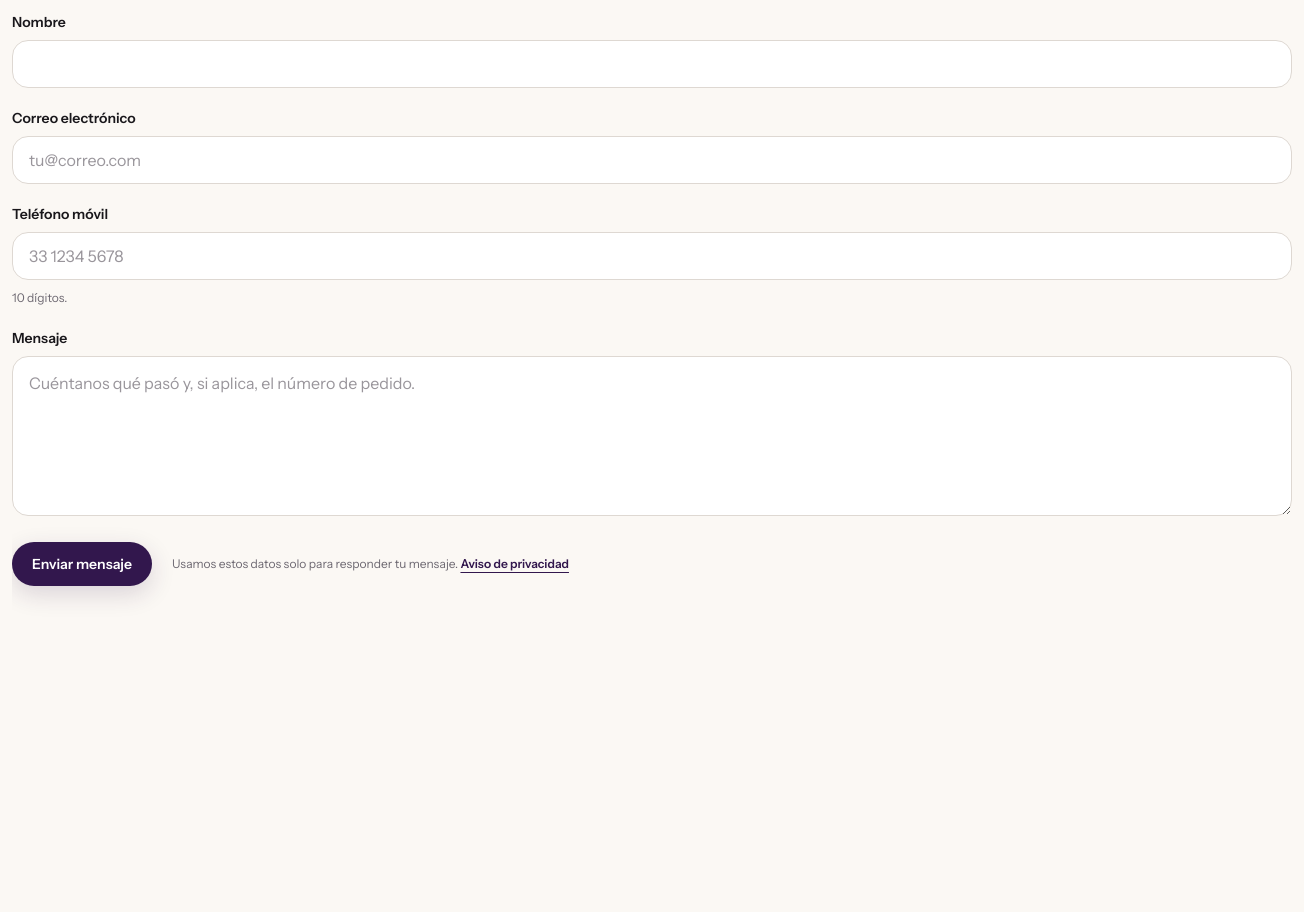
it: ContactForm › marks each field that was refused and keeps what was typed
Step 1. Type "Luis Pérez" into the field labelled "Nombre" → (652, 64), box [12,40,1292,88]
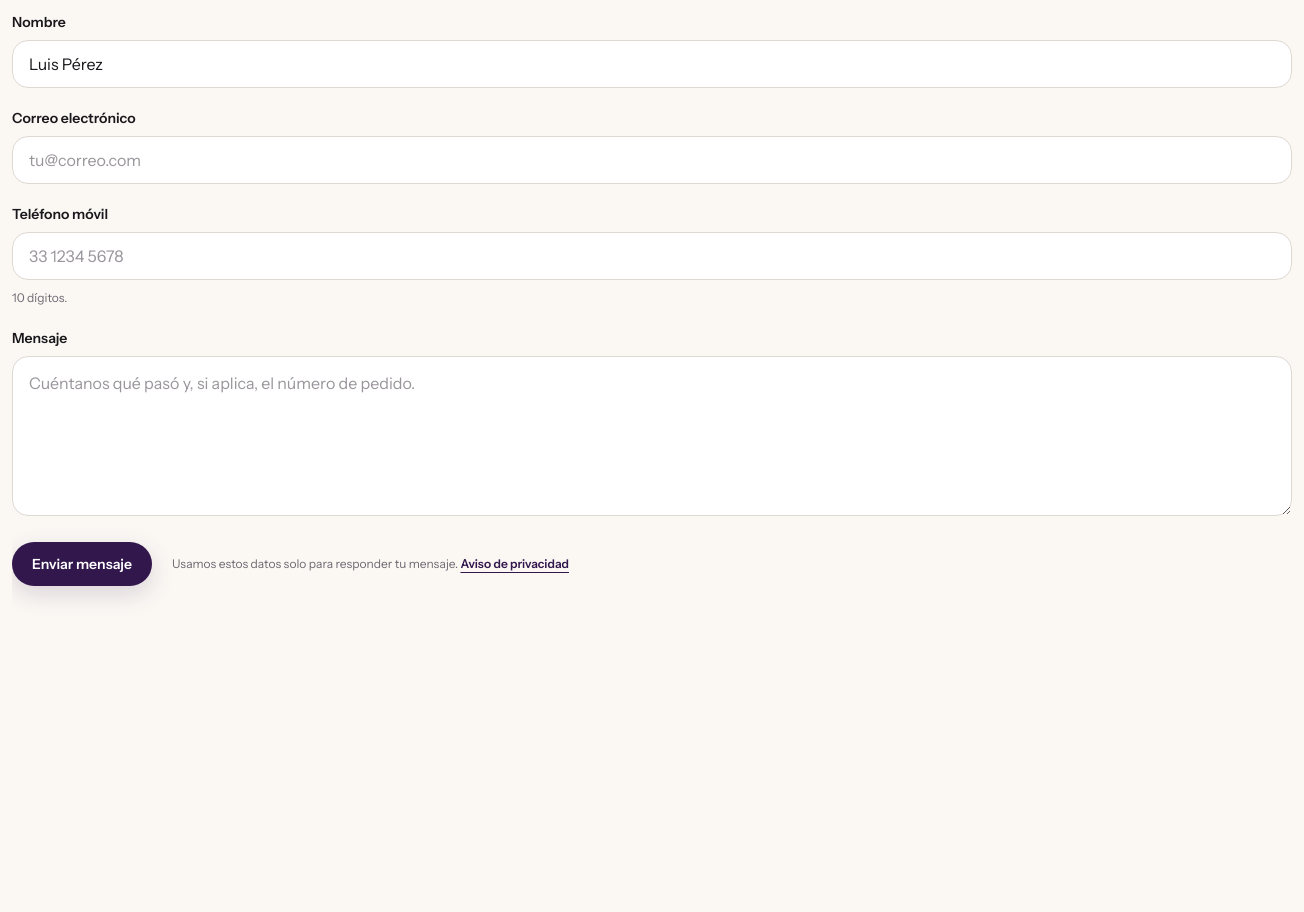
Step 2. Type "123" into the field labelled "Teléfono móvil" → (652, 256), box [12,232,1292,280]
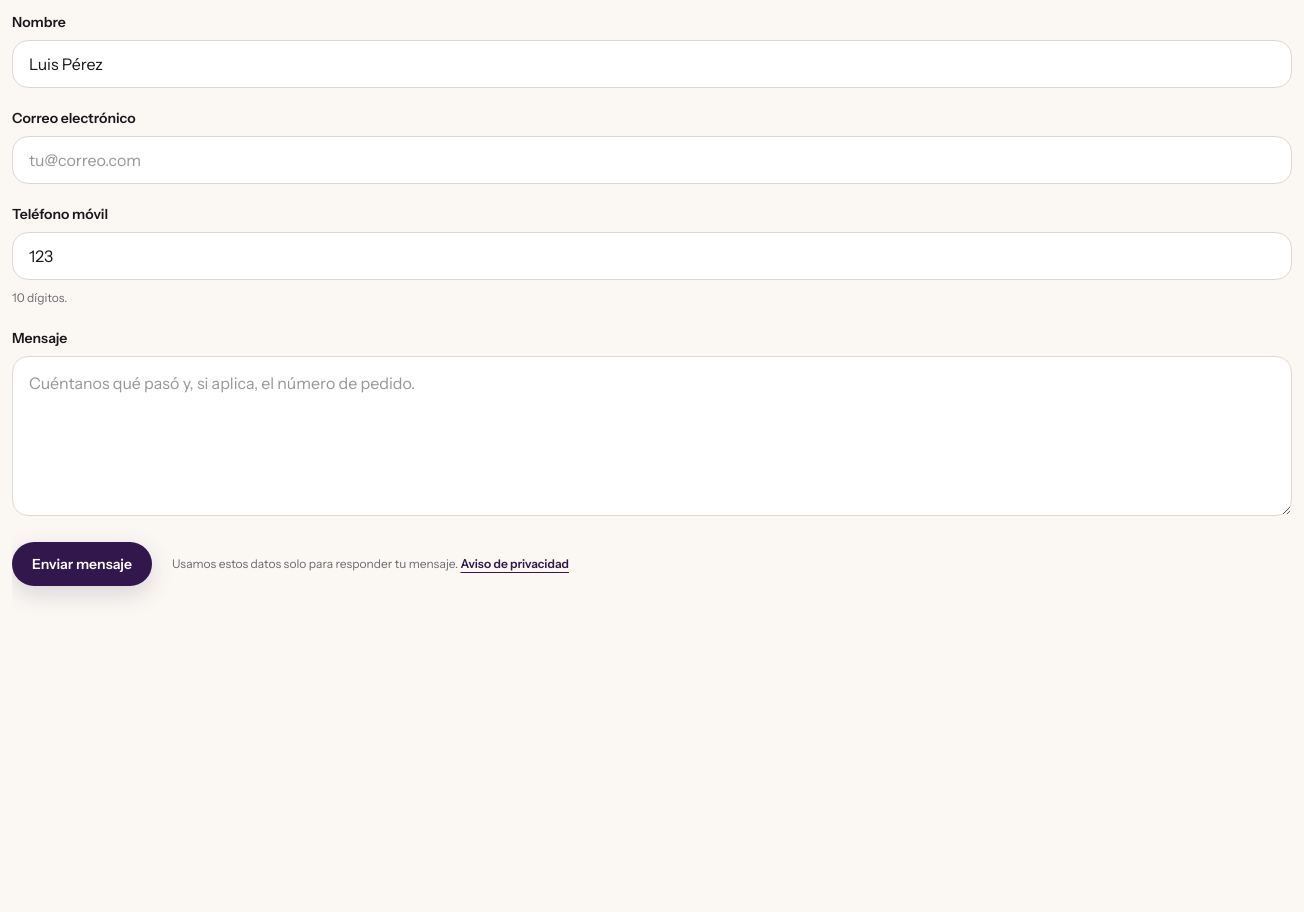
Step 3. Type "No llegó mi pedido." into the text box labelled "Mensaje" → (652, 436), box [12,356,1292,516]
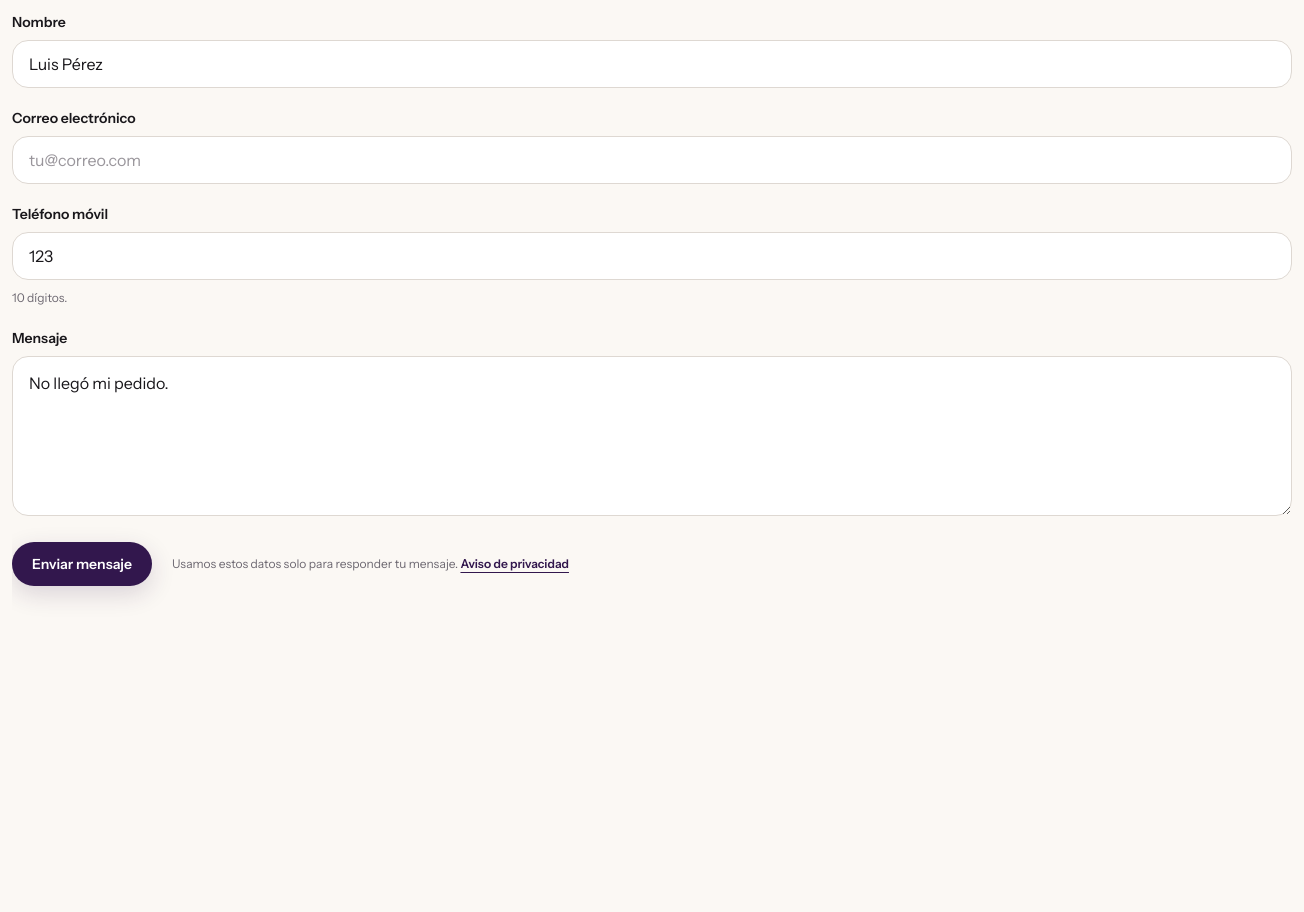
Step 4. Click the button "Enviar mensaje" → click(82, 564), box [12,542,152,586]
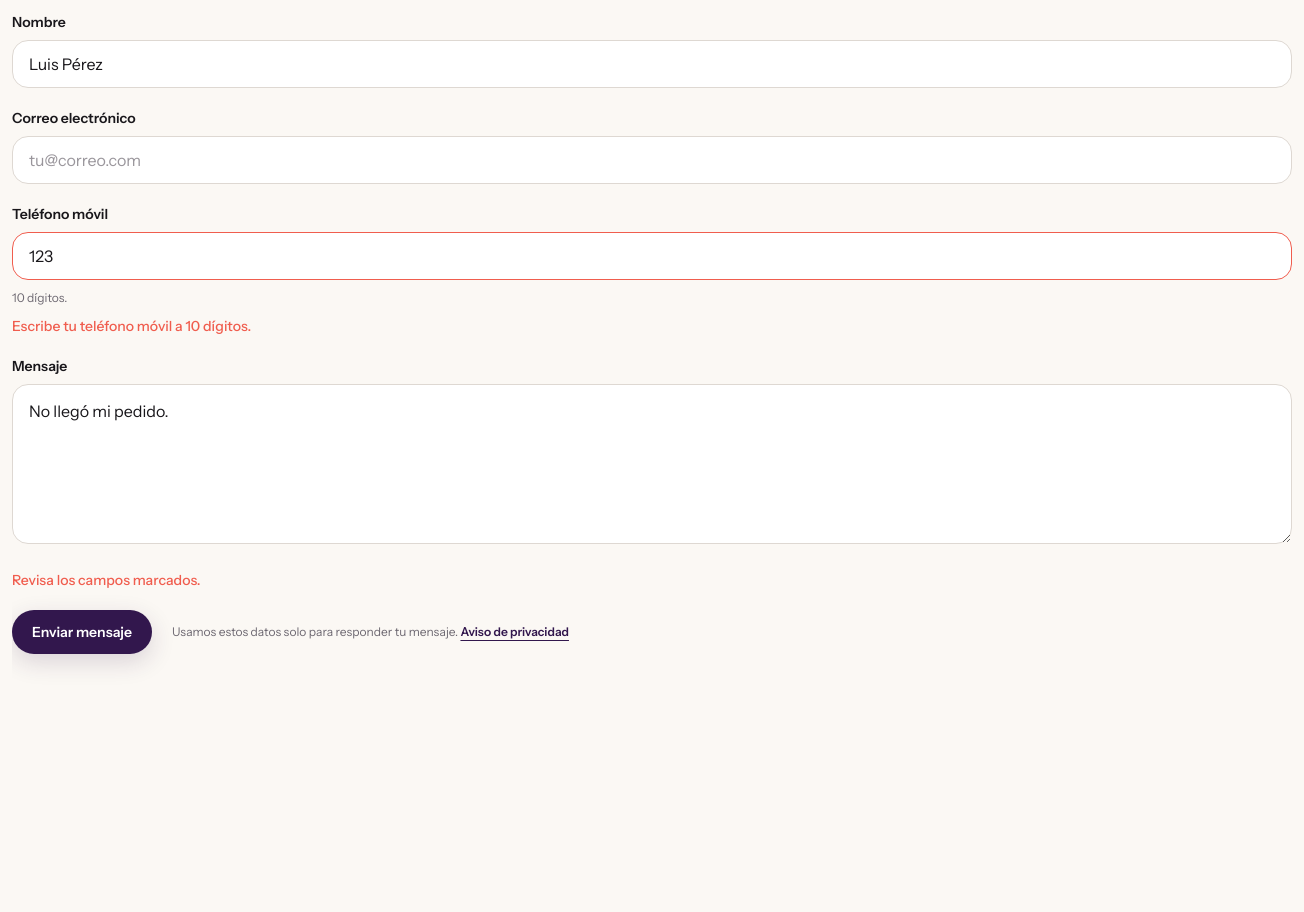
expect the message reads "Revisa los campos marcados.": met, box [12,571,201,589]
